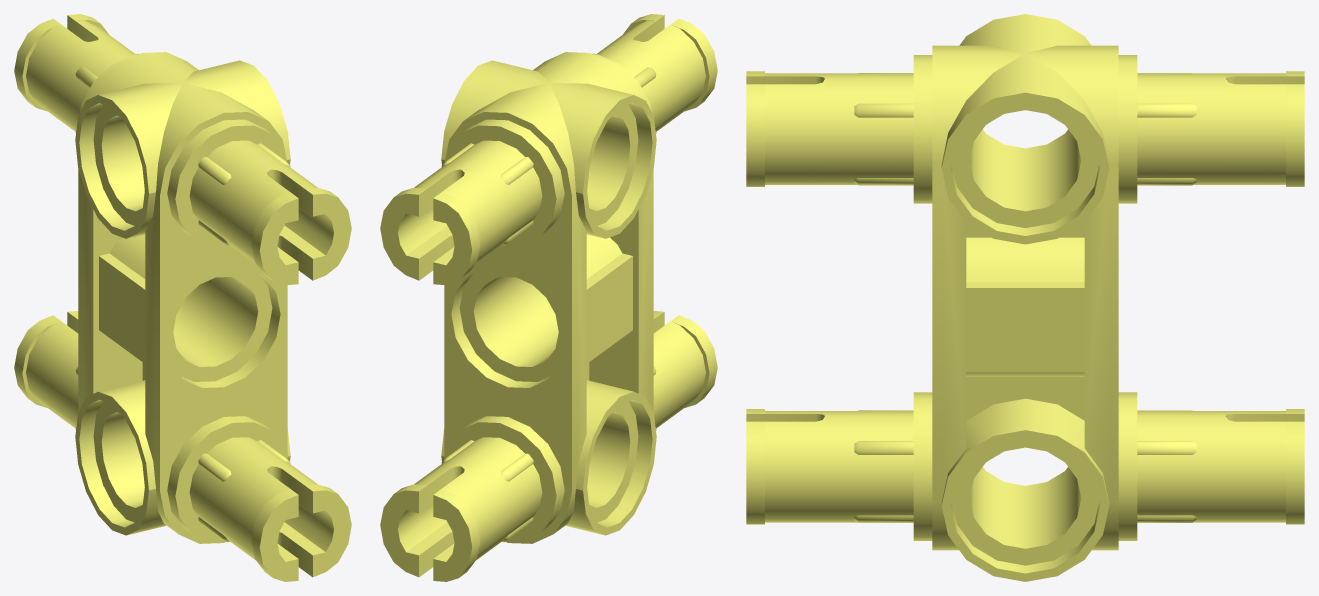
3 views of the same model, side by side, from view 1: azimuth 30°, elevation 25°; view 2: azimuth 150°, elevation 25°; view 3: azimuth 270°, elevation 25° (orthographic). The views are drawn at different scales.
Parts seen in each view (by area): view 1: 65489.dat; view 2: 65489.dat; view 3: 65489.dat.
Boxes of the visible parts, box(x1,y1,x2,y2) form: 65489.dat: box(14, 14, 351, 581); 65489.dat: box(380, 14, 717, 581); 65489.dat: box(746, 14, 1304, 581).
Size of the model in its own units: 0.008 by 0.0232 by 0.024.
